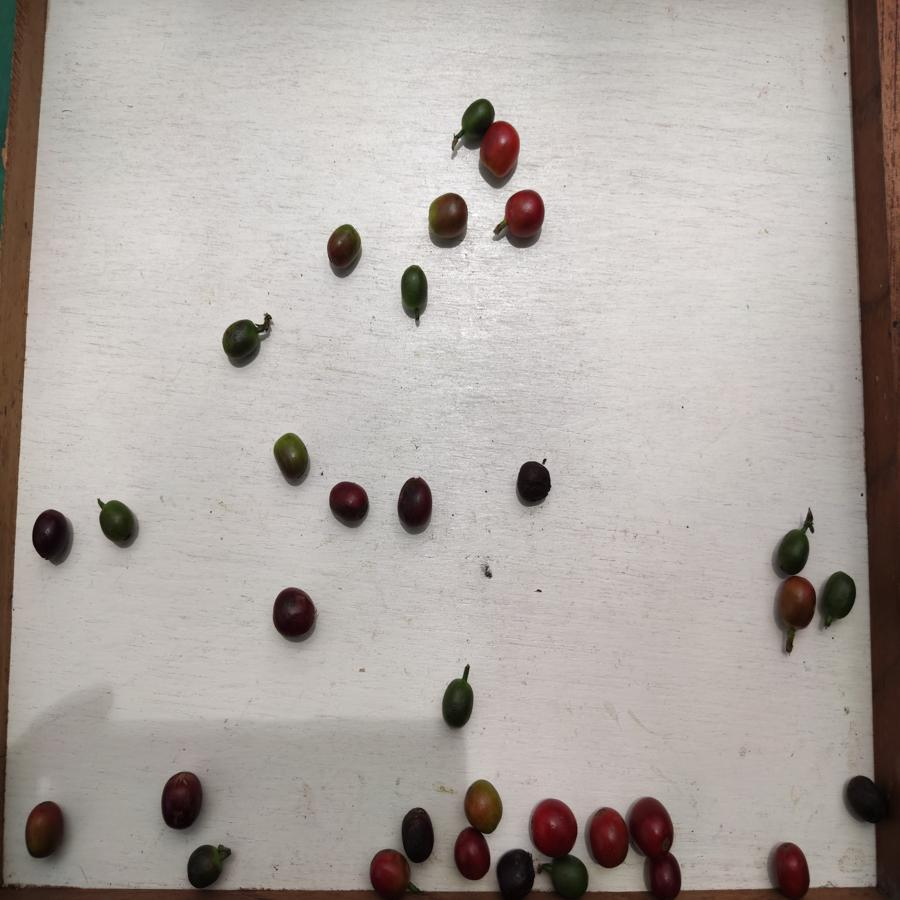Inmaduro: (821, 566, 858, 621), (184, 844, 229, 889), (441, 676, 478, 730), (97, 498, 139, 545), (776, 527, 811, 574), (549, 856, 590, 895), (399, 265, 433, 311), (221, 319, 261, 358), (460, 96, 496, 134)
Maduro: (626, 794, 675, 853), (530, 798, 577, 854), (771, 837, 812, 899), (480, 121, 522, 180), (590, 806, 629, 867), (453, 829, 492, 884), (506, 188, 546, 241), (369, 850, 409, 895)
Pinton: (22, 802, 67, 859), (426, 191, 471, 246), (462, 781, 506, 829), (271, 432, 312, 483), (779, 578, 817, 631), (326, 222, 360, 275)
Sobremaduro: (270, 586, 320, 638), (846, 771, 889, 829), (399, 803, 439, 864), (28, 509, 71, 564), (161, 770, 201, 829), (395, 475, 434, 532), (326, 479, 371, 524), (497, 846, 536, 896), (514, 460, 556, 504), (649, 853, 686, 900)
